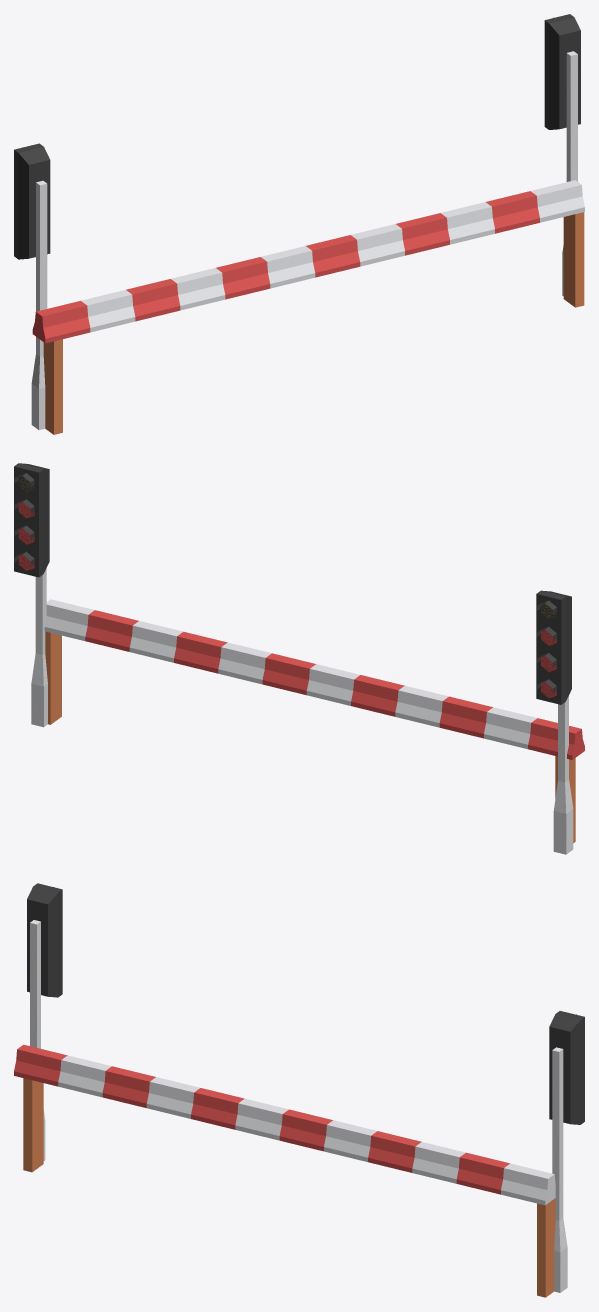
The model's file is Barrier.obj.
The picture shows the model from 3 angles, top to bottom: view 1: azimuth 30°, elevation 25°; view 2: azimuth 150°, elevation 25°; view 3: azimuth 330°, elevation 25°; orthographic projection.
Parts seen in each view (by area): view 1: mergedBlocks; view 2: mergedBlocks; view 3: mergedBlocks.
Boxes of the visible parts, <box> form: mergedBlocks: <box>14,14,584,434</box>; mergedBlocks: <box>14,463,584,854</box>; mergedBlocks: <box>14,883,584,1297</box>.
Bounding box in the file's own units: 3.09 × 1.43 × 0.3051.
